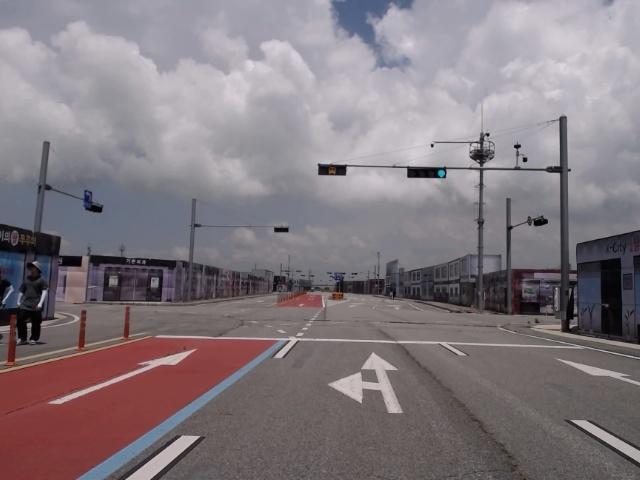straight_green_4: (406, 168, 447, 178)
